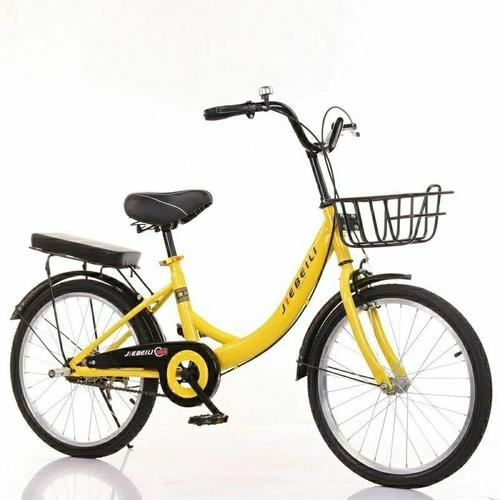单车: (5, 77, 500, 492)
